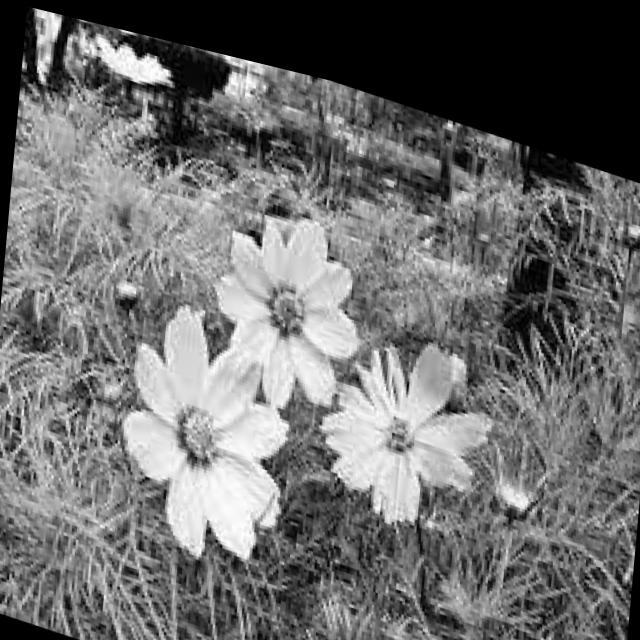Flower: (103, 266, 329, 574), (316, 296, 495, 536), (192, 174, 366, 409)
